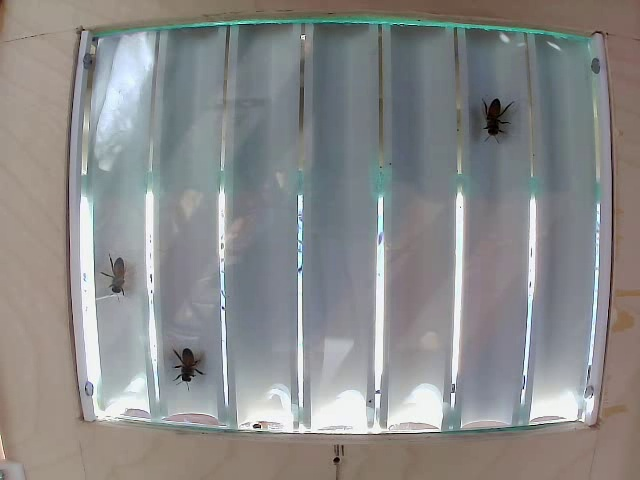bee: (477, 90, 512, 146), (101, 256, 142, 299), (172, 346, 208, 394)
